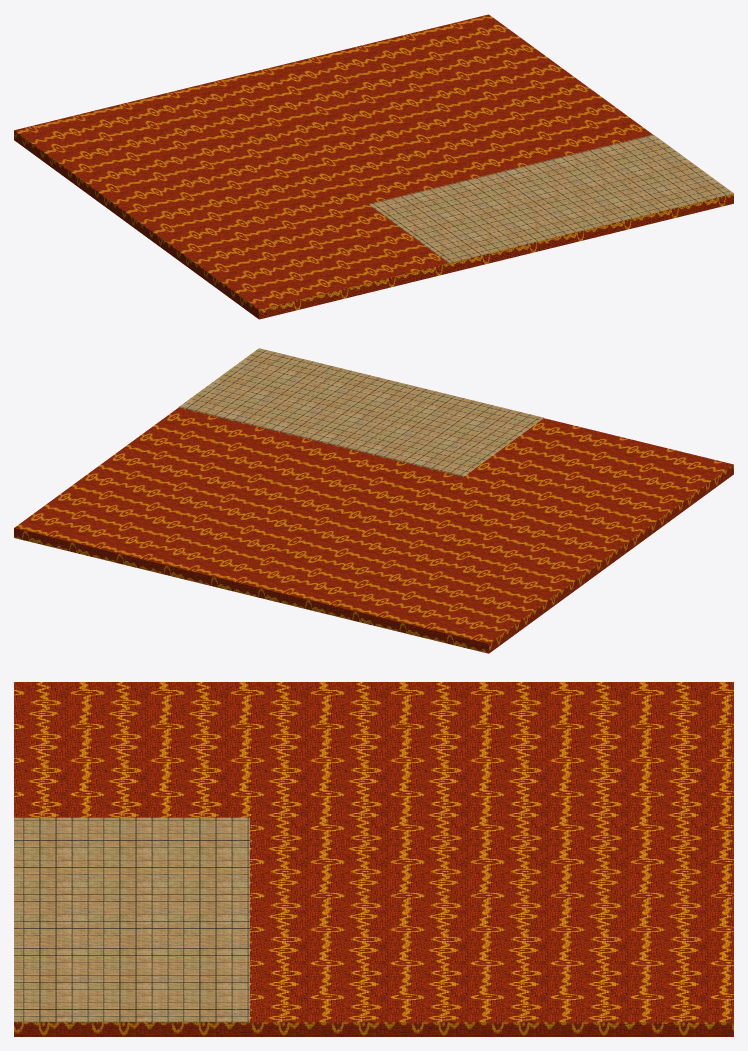
The model's file is Floor_3aeacd82.obj.
The picture shows the model from 3 angles, top to bottom: view 1: azimuth 30°, elevation 25°; view 2: azimuth 150°, elevation 25°; view 3: azimuth 270°, elevation 25°; orthographic projection. The views are drawn at different scales.
Parts seen in each view (by area): view 1: mesh_08c2f215; view 2: mesh_08c2f215; view 3: mesh_08c2f215.
Boxes of the visible parts, box(x1,y1,x2,y2) form: mesh_08c2f215: box(14, 14, 733, 319); mesh_08c2f215: box(14, 348, 733, 653); mesh_08c2f215: box(14, 682, 733, 1036).
Size of the model in its own units: 10.07 by 0.2091 by 9.
